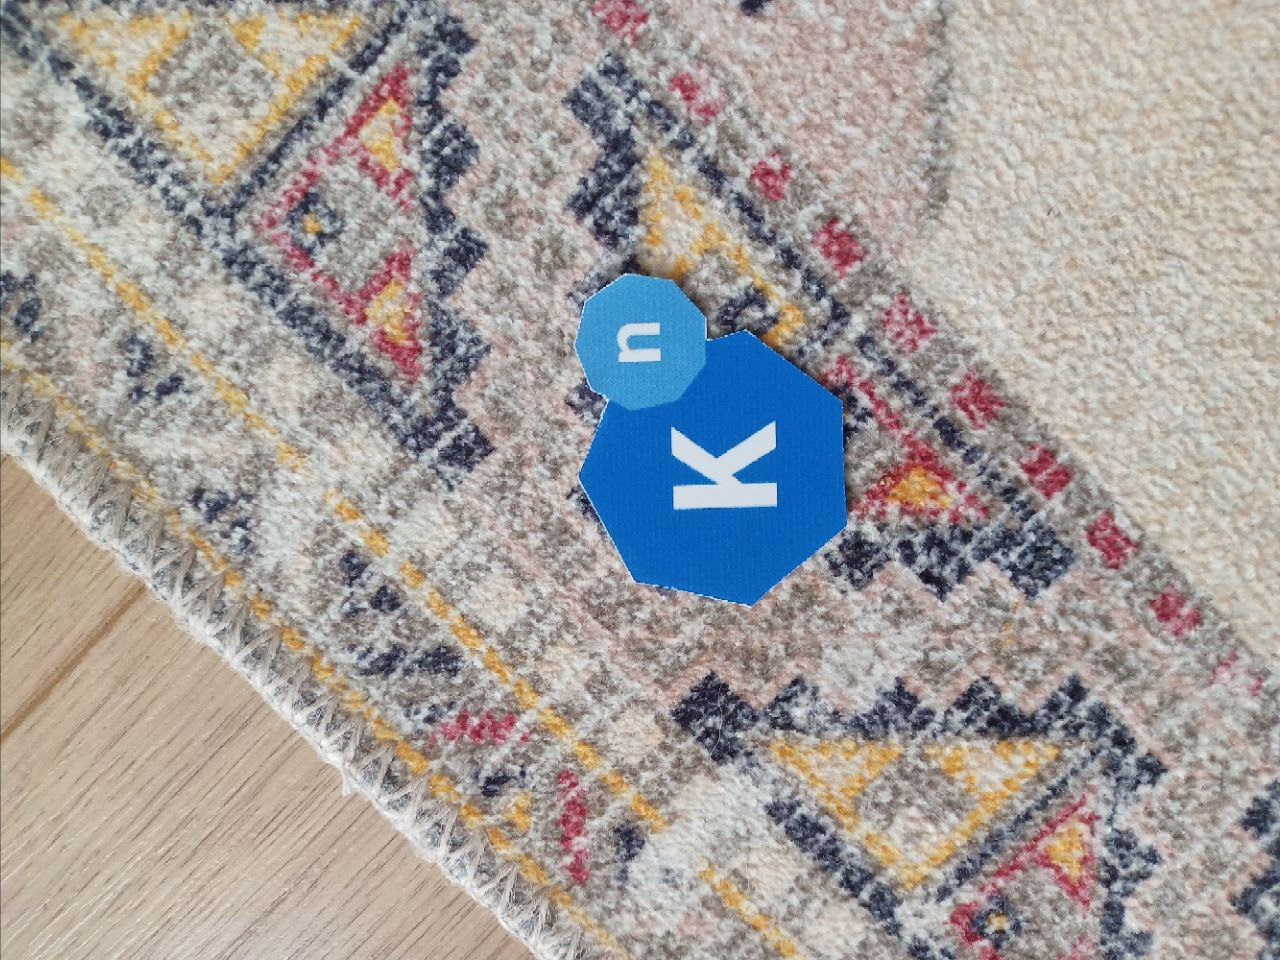knative: (574, 271, 853, 605)
